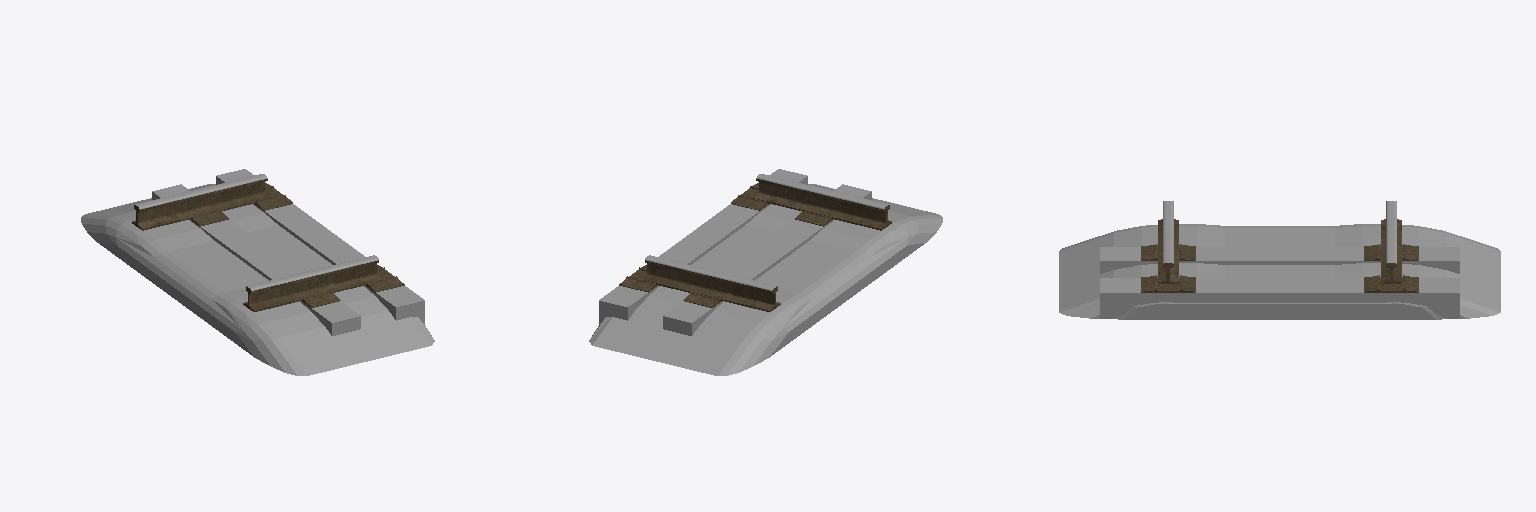
3 views of the same model, side by side, from view 1: azimuth 30°, elevation 25°; view 2: azimuth 150°, elevation 25°; view 3: azimuth 270°, elevation 25° (orthographic).
Parts seen in each view (by area): view 1: RAIL_BASE.001_Plane.001, RAIL_BASE.003_Plane.003, RAIL_RIGHT.001_Cube.000, RAIL_LEFT.001_Cube.001, RAIL_BASE.002_Plane.002; view 2: RAIL_BASE.001_Plane.001, RAIL_BASE.003_Plane.003, RAIL_LEFT.001_Cube.001, RAIL_RIGHT.001_Cube.000, RAIL_BASE.002_Plane.002; view 3: RAIL_BASE.001_Plane.001, RAIL_BASE.003_Plane.003, RAIL_BASE.002_Plane.002, RAIL_LEFT.001_Cube.001, RAIL_RIGHT.001_Cube.000.
Part boxes in pixels (x1,y1,x2,y2): RAIL_BASE.001_Plane.001: (81,184,434,375); RAIL_BASE.003_Plane.003: (152,169,424,335); RAIL_RIGHT.001_Cube.000: (132,174,269,230); RAIL_LEFT.001_Cube.001: (243,255,381,311); RAIL_BASE.002_Plane.002: (190,183,404,307); RAIL_BASE.001_Plane.001: (589,184,942,375); RAIL_BASE.003_Plane.003: (599,169,871,335); RAIL_LEFT.001_Cube.001: (754,174,891,230); RAIL_RIGHT.001_Cube.000: (642,255,780,311); RAIL_BASE.002_Plane.002: (619,183,833,307); RAIL_BASE.001_Plane.001: (1059,224,1500,319); RAIL_BASE.003_Plane.003: (1100,247,1459,318); RAIL_BASE.002_Plane.002: (1141,244,1418,292); RAIL_LEFT.001_Cube.001: (1158,201,1178,283); RAIL_RIGHT.001_Cube.000: (1381,201,1401,283).
Size of the model in its own units: 1.25 by 0.3683 by 3.
5 materials, 1 textured.